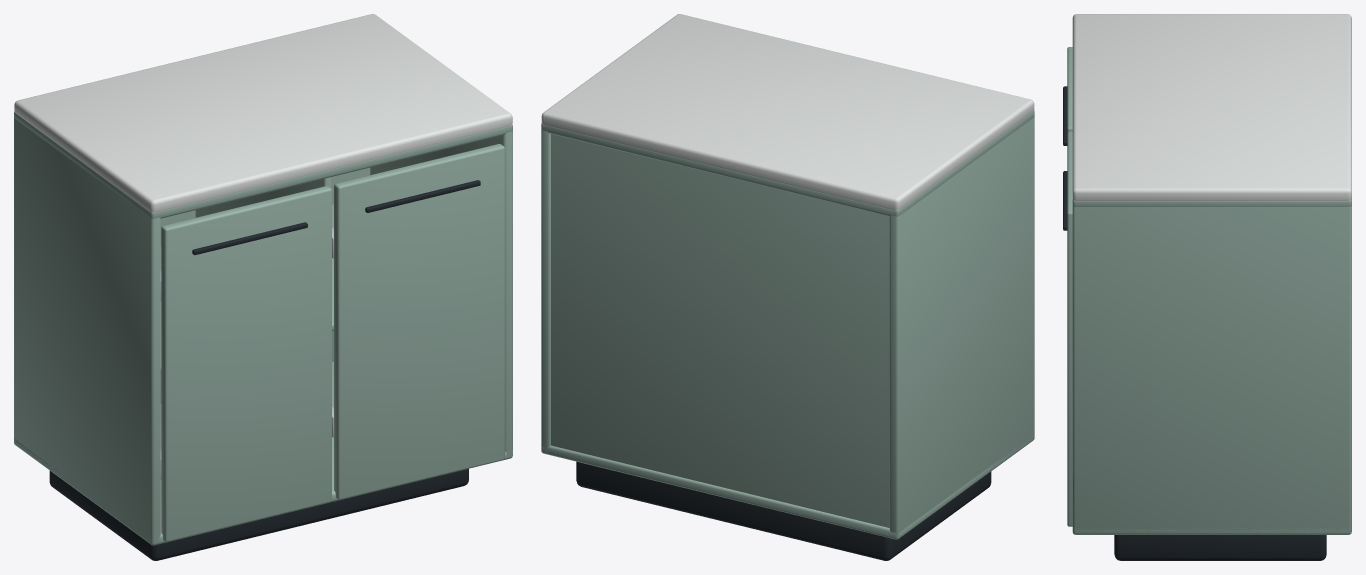
Rendered from base-cabinet.glb.
The picture shows the model from 3 angles, left to right: view 1: azimuth 30°, elevation 25°; view 2: azimuth 150°, elevation 25°; view 3: azimuth 270°, elevation 25°; orthographic projection.
Visible parts, largest first — view 1: catalog_surface_RealismUV, catalog_surface_UVMap; view 2: catalog_surface_RealismUV, catalog_surface_UVMap; view 3: catalog_surface_RealismUV, catalog_surface_UVMap.
Boxes of the visible parts, x1,y1,x2,y2 form: catalog_surface_RealismUV: [14, 111, 512, 545]; catalog_surface_UVMap: [14, 14, 512, 560]; catalog_surface_RealismUV: [541, 111, 1034, 539]; catalog_surface_UVMap: [541, 14, 1034, 560]; catalog_surface_RealismUV: [1067, 47, 1351, 534]; catalog_surface_UVMap: [1063, 14, 1351, 560].
Bounding box in the file's own units: 0.9 × 0.91 × 0.62.
